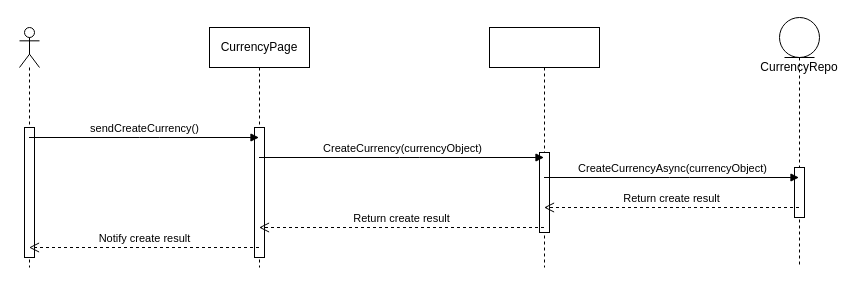
This 855x285 diagram has some shape labels left out. Here are the shapes that lost their labels. From the top down, the box of each, then its label:
(18, 26, 40, 268): User
(488, 26, 600, 268): CurrencyController
